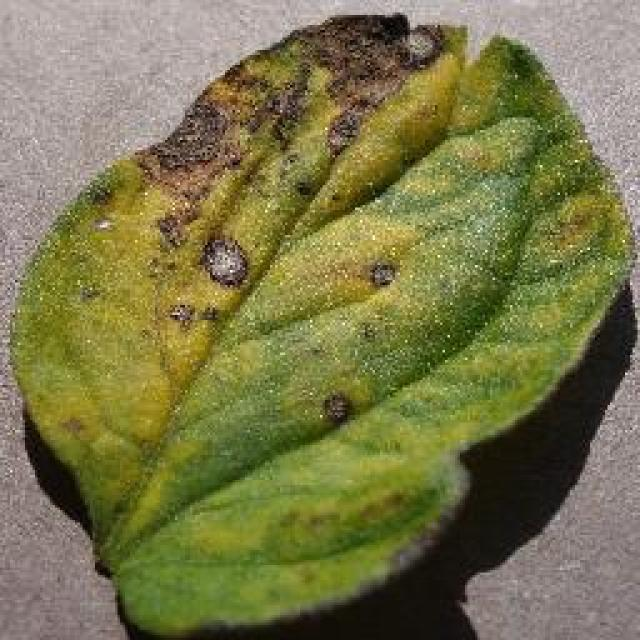Tomato___Early_blight: (4, 12, 638, 637)
